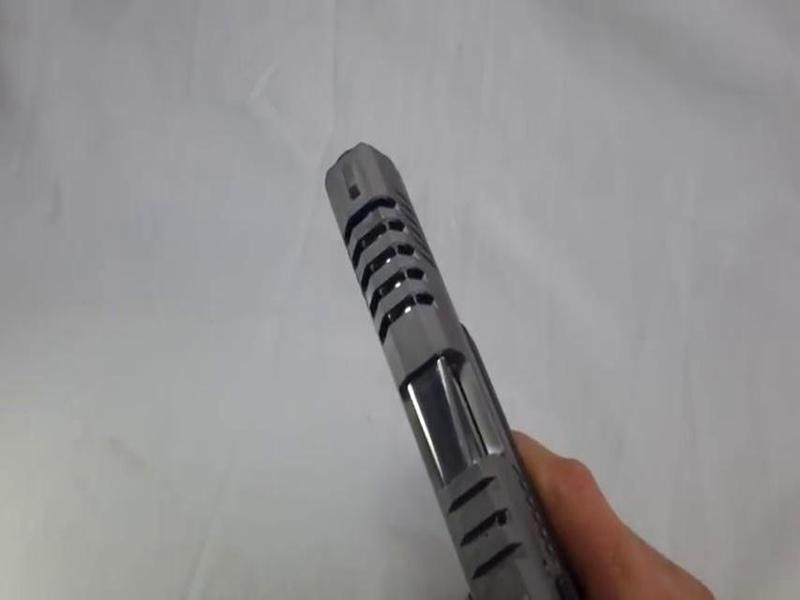Pistola: (310, 123, 613, 600)
